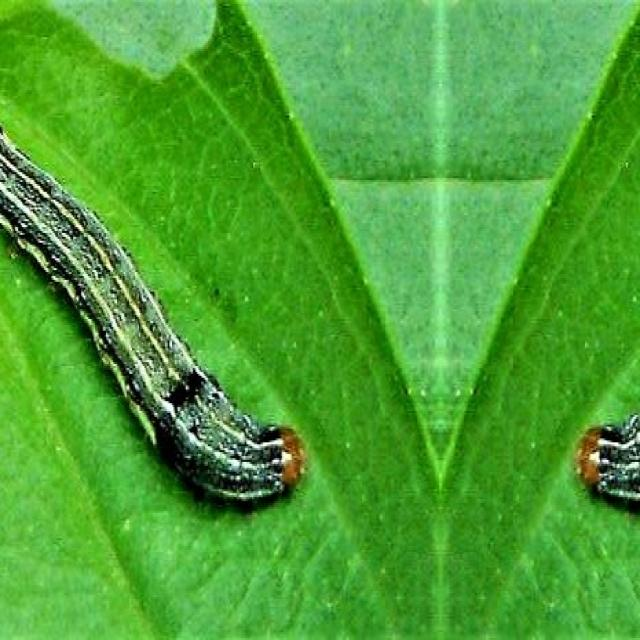Armyworm: (1, 91, 309, 545), (571, 329, 640, 535)
